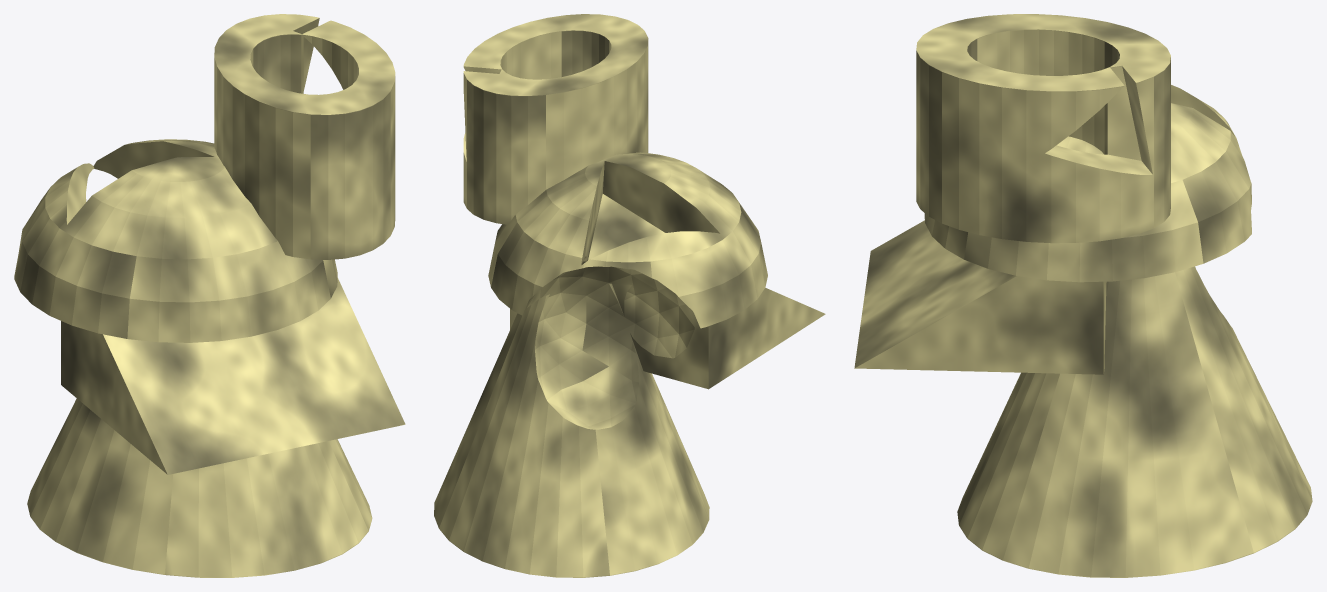
3 renders of one model, left to right at view 1: azimuth 30°, elevation 25°; view 2: azimuth 150°, elevation 25°; view 3: azimuth 270°, elevation 25°, orthographic. The views are drawn at different scales.
Parts seen in each view (by area): view 1: geometry_0; view 2: geometry_0; view 3: geometry_0.
Part boxes in pixels (left/top/right/bottom): geometry_0: left=14, top=14, right=405, bottom=577; geometry_0: left=434, top=14, right=825, bottom=577; geometry_0: left=854, top=14, right=1312, bottom=577.
Size of the model in its own units: 1.38 by 1.9 by 1.63.
1 material, 1 textured.
